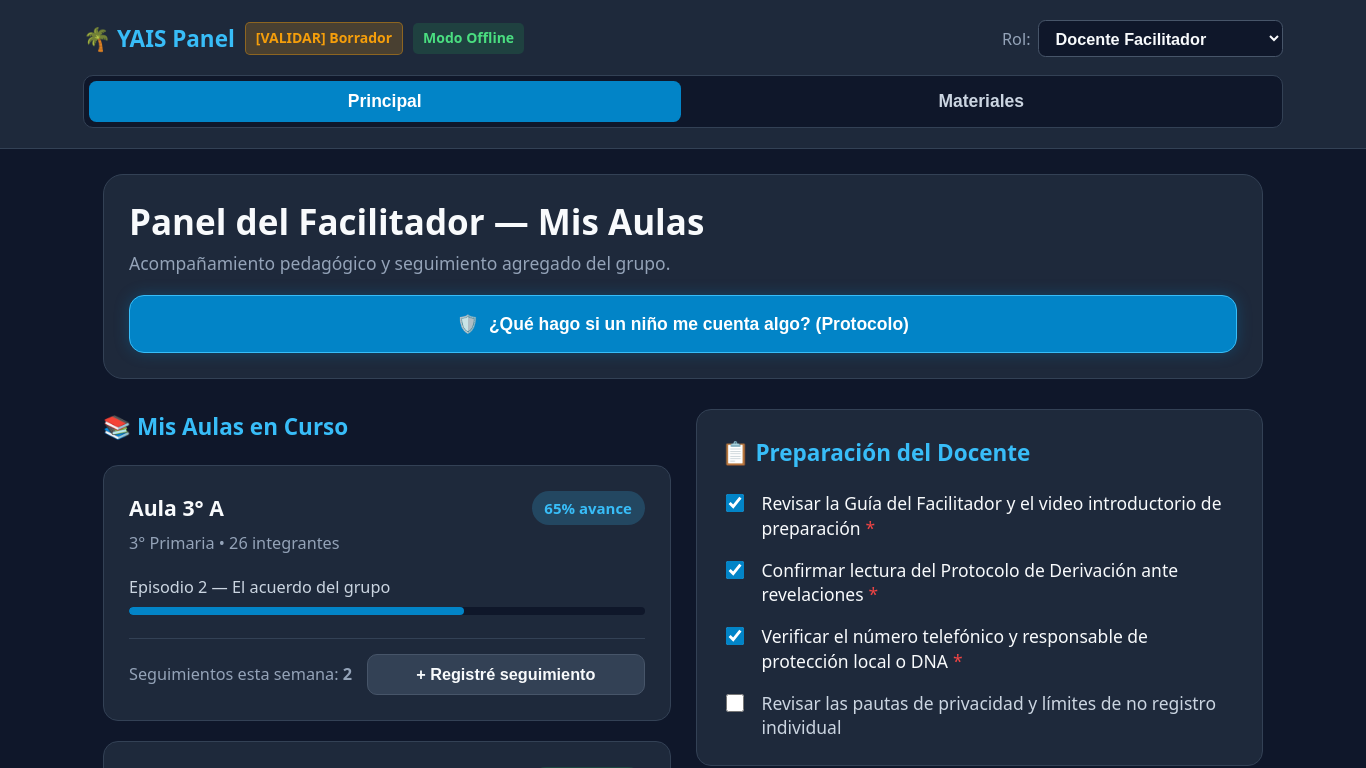
Scenario: PanelShell — Panel del Facilitador (SPEC-002) › opens the ProtocolModal when clicking the protocol emergency button
This screenshot has width=1366, height=768.
Step 1. Click the button with aria-label "Abrir protocolo" → coordinates (683, 324), box [129,295,1237,353]
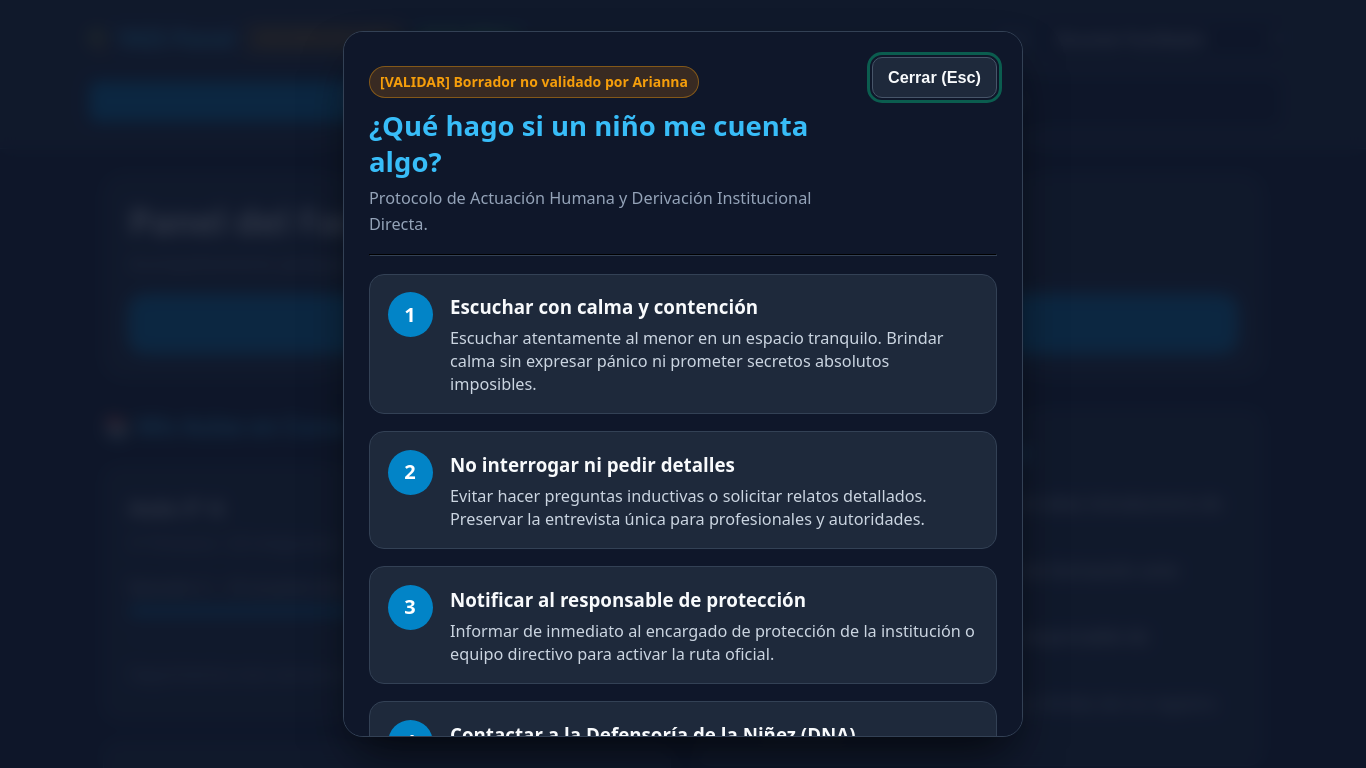
Result: the dialog is shown
Result: the text "[VALIDAR] Borrador no validado por Arianna" is shown at [369,66,699,98]
Result: the heading "Escuchar con calma y contención" is shown at [450,294,758,319]
